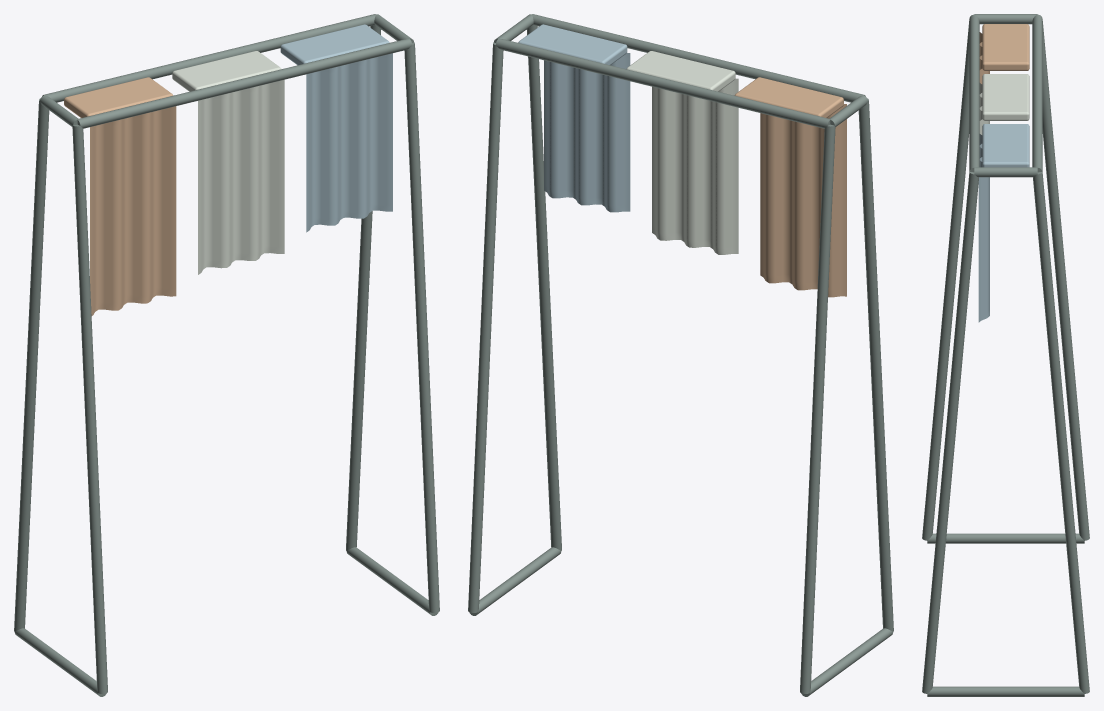
File: balcony-drying-rack-v1.glb
The picture shows the model from 3 angles, left to right: view 1: azimuth 30°, elevation 25°; view 2: azimuth 150°, elevation 25°; view 3: azimuth 270°, elevation 25°; orthographic projection. The views are drawn at different scales.
Visible parts, largest first — view 1: Hanging-towel (×3), Drying-rack-tube (×8), Freestanding-drying-rack; view 2: Hanging-towel (×3), Drying-rack-tube (×8), Freestanding-drying-rack; view 3: Drying-rack-tube (×10), Freestanding-drying-rack, Hanging-towel.
Part boxes in pixels (x1,y1,x2,y2): Hanging-towel (×3): (90, 53, 392, 315); Drying-rack-tube (×8): (14, 14, 439, 696); Freestanding-drying-rack: (64, 24, 389, 117); Hanging-towel (×3): (544, 53, 846, 297); Drying-rack-tube (×8): (468, 14, 893, 696); Freestanding-drying-rack: (518, 24, 843, 117); Drying-rack-tube (×10): (922, 14, 1089, 696); Freestanding-drying-rack: (982, 24, 1029, 167); Hanging-towel: (978, 134, 989, 322).
Bounding box in the file's own units: 0.946 × 1.48 × 0.4259.
